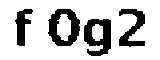0: (43, 3, 83, 48)
2: (119, 4, 151, 52)
f: (9, 6, 37, 54)
g: (82, 18, 114, 60)
